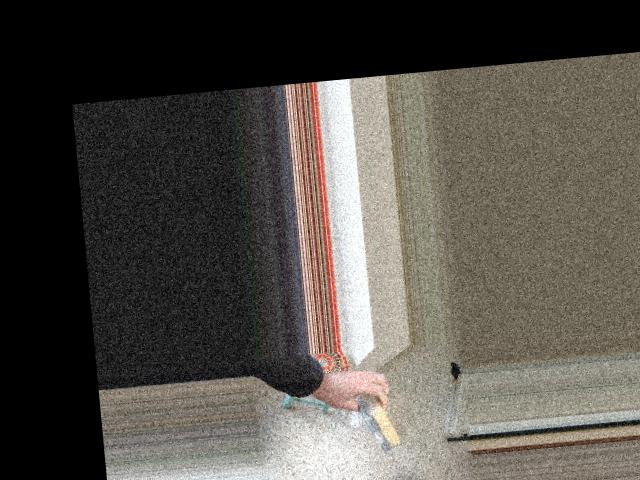cheese: (338, 358, 423, 460)
